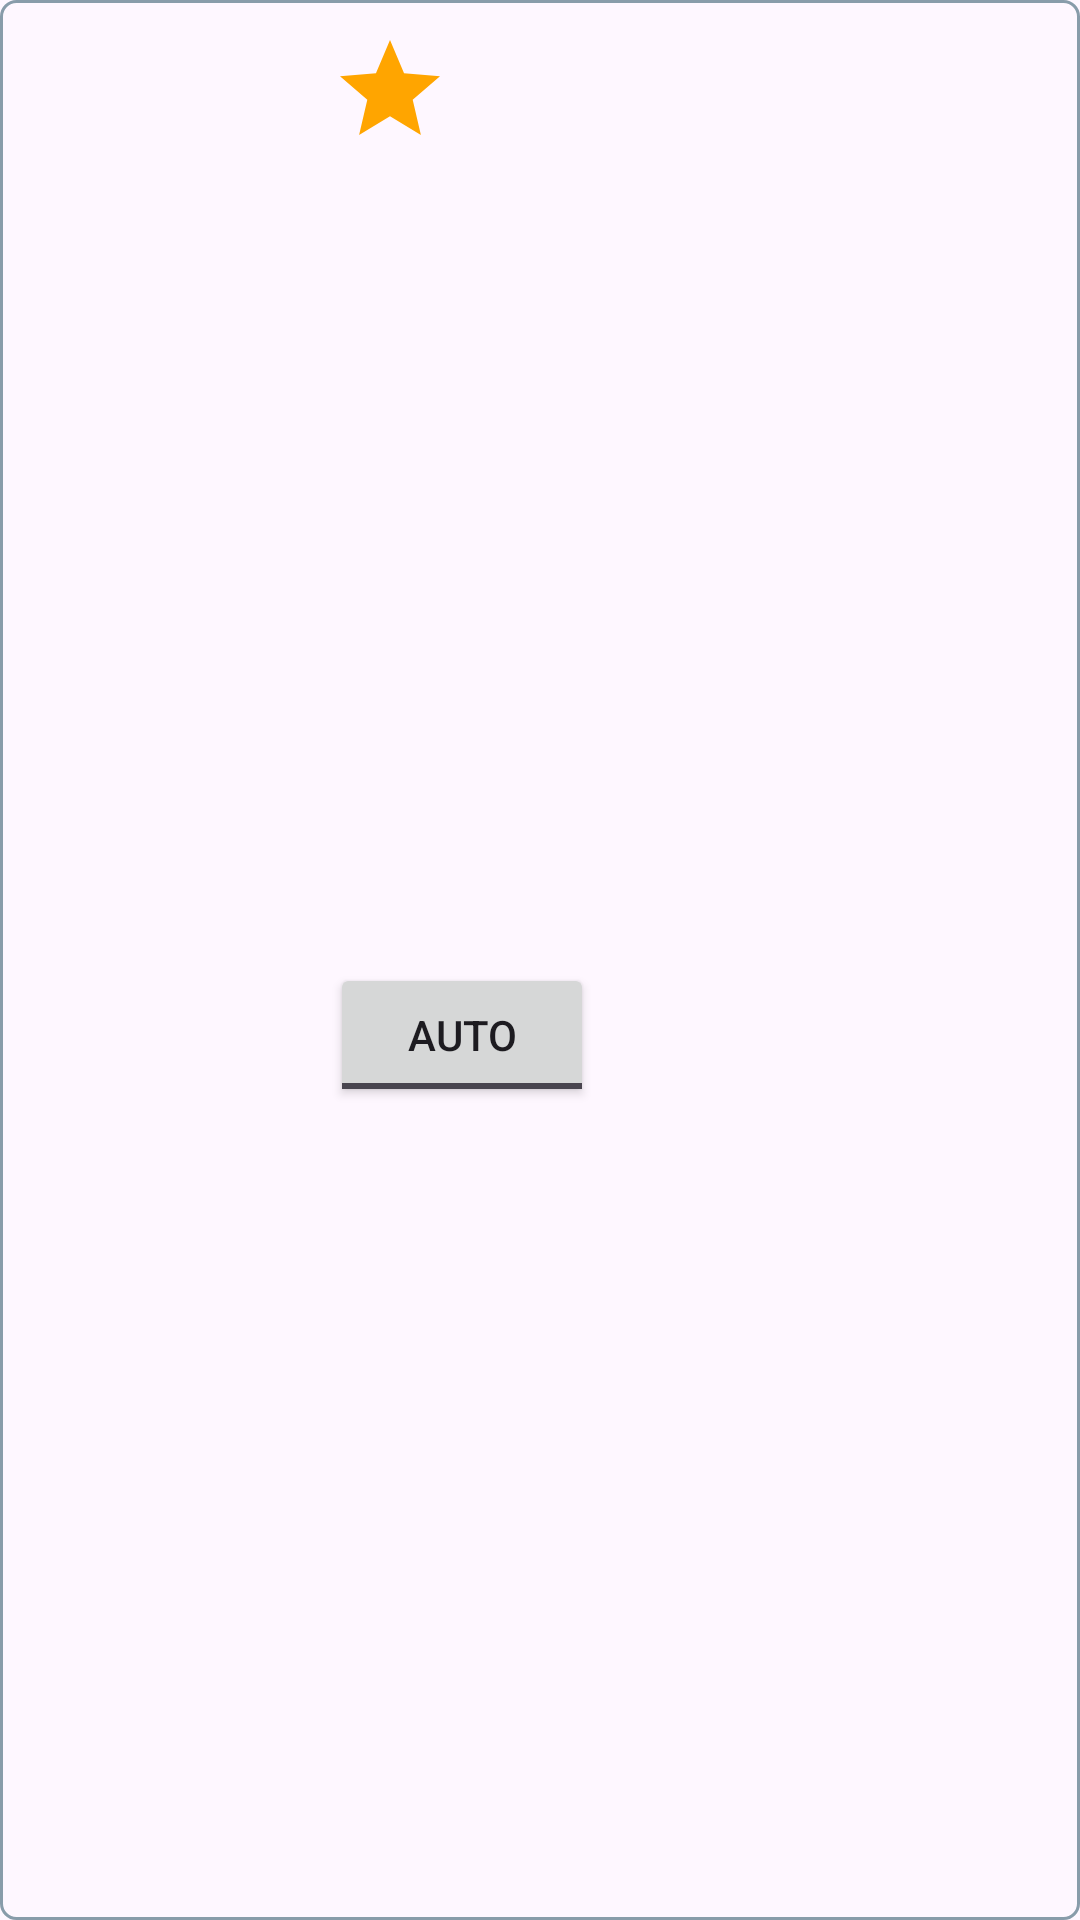

Where to tap for icons on this 1080px×1920px app screen, as (x,y):
star: (390,87)
